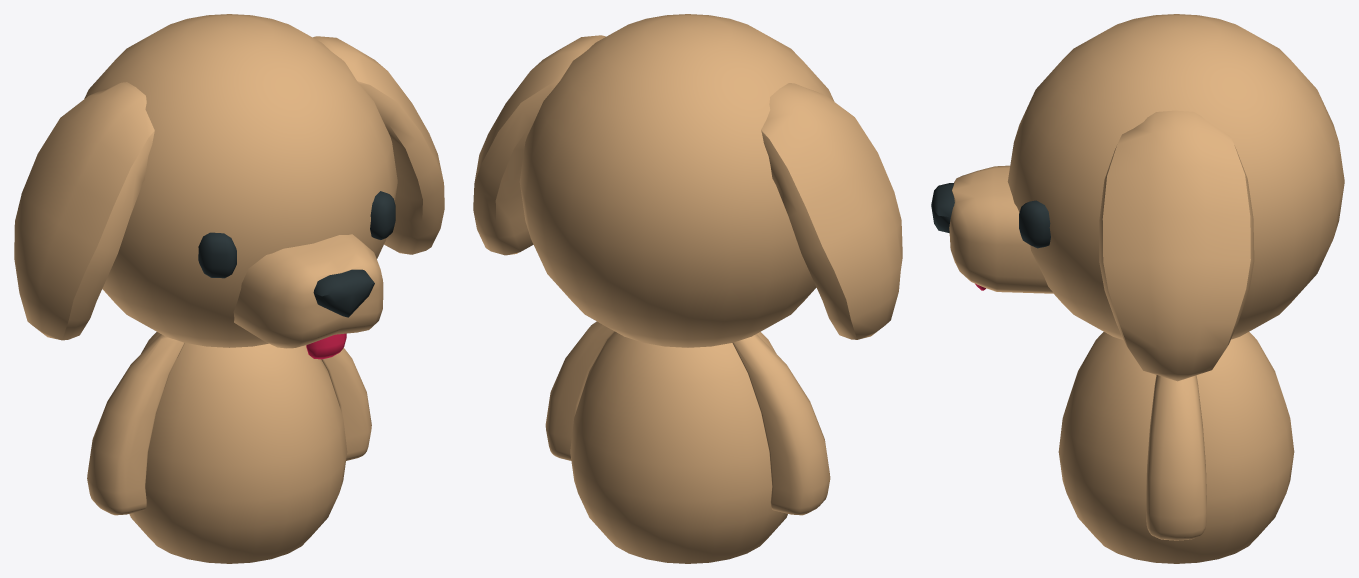
Rendered from dog.gltf.
The picture shows the model from 3 angles, left to right: view 1: azimuth 30°, elevation 25°; view 2: azimuth 150°, elevation 25°; view 3: azimuth 270°, elevation 25°; orthographic projection.
Parts seen in each view (by area): view 1: Cube1339, character_dog, character_dogArmRight, Cube1339_2, character_dogArmLeft, Cube1339_1; view 2: Cube1339, character_dog, character_dogArmRight, character_dogArmLeft; view 3: Cube1339, character_dog, character_dogArmLeft, Cube1339_2.
Part boxes in pixels (bbox=[...]): Cube1339: bbox=[14, 14, 444, 348]; character_dog: bbox=[129, 332, 347, 563]; character_dogArmRight: bbox=[87, 334, 184, 515]; Cube1339_2: bbox=[198, 191, 395, 317]; character_dogArmLeft: bbox=[321, 348, 371, 460]; Cube1339_1: bbox=[306, 333, 346, 359]; Cube1339: bbox=[473, 14, 902, 347]; character_dog: bbox=[570, 332, 787, 563]; character_dogArmRight: bbox=[732, 334, 830, 515]; character_dogArmLeft: bbox=[545, 321, 614, 460]; Cube1339: bbox=[949, 14, 1344, 381]; character_dog: bbox=[1058, 332, 1294, 563]; character_dogArmLeft: bbox=[1146, 375, 1206, 540]; Cube1339_2: bbox=[931, 183, 1050, 248].
Bounding box in the file's own units: 1.39 × 1.64 × 1.23.
